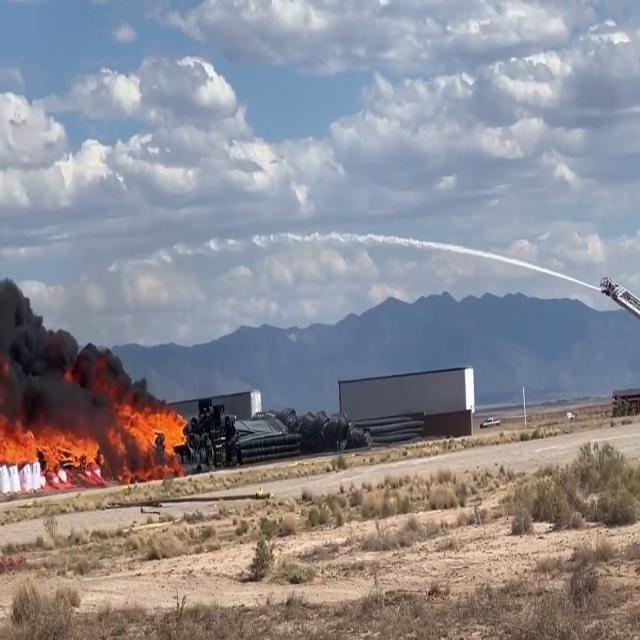Fire: (0, 418, 116, 481), (114, 397, 192, 465)
Smoke: (0, 228, 128, 450)
